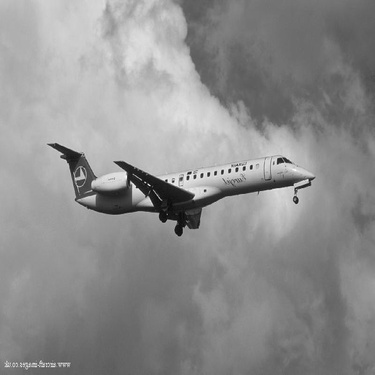airplane: (19, 107, 326, 244)
